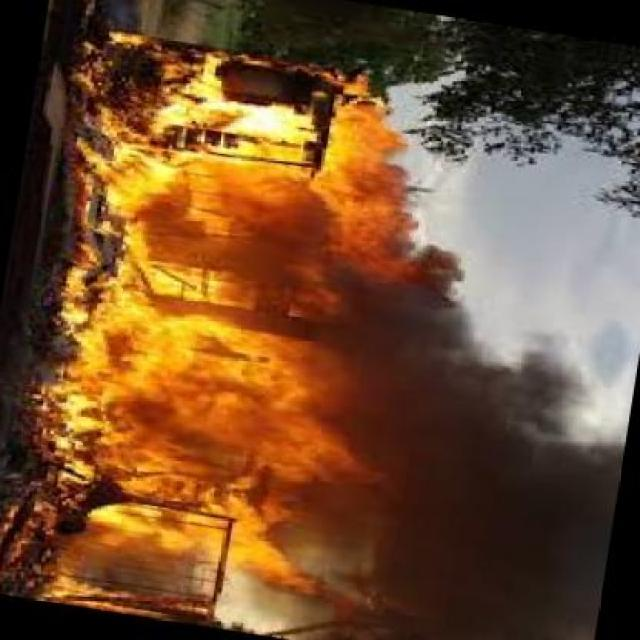Fire: (58, 34, 416, 621)
Smoke: (393, 266, 612, 640)
